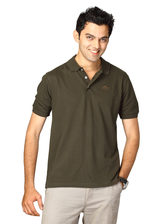clothoes: (29, 51, 142, 188)
watch: (117, 174, 133, 194)
